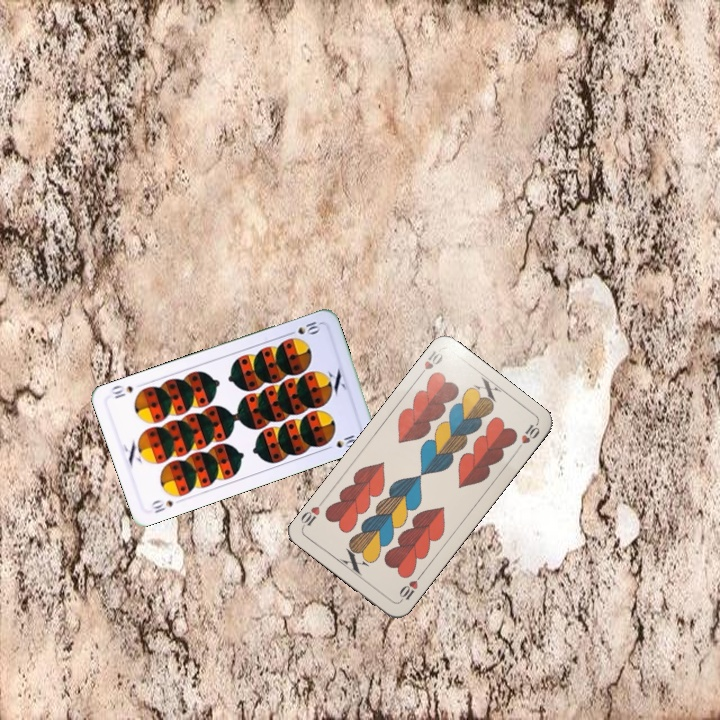H10: (414, 346, 446, 380), (395, 570, 425, 605)
S10: (283, 317, 323, 338), (148, 495, 175, 516)
